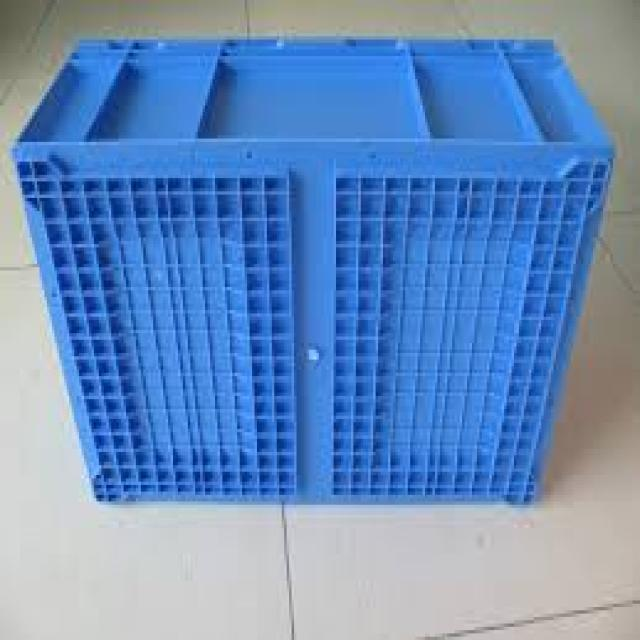basket: (15, 43, 615, 503)
